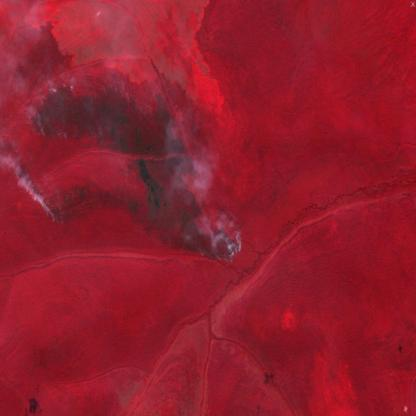fire: (26, 78, 244, 269)
